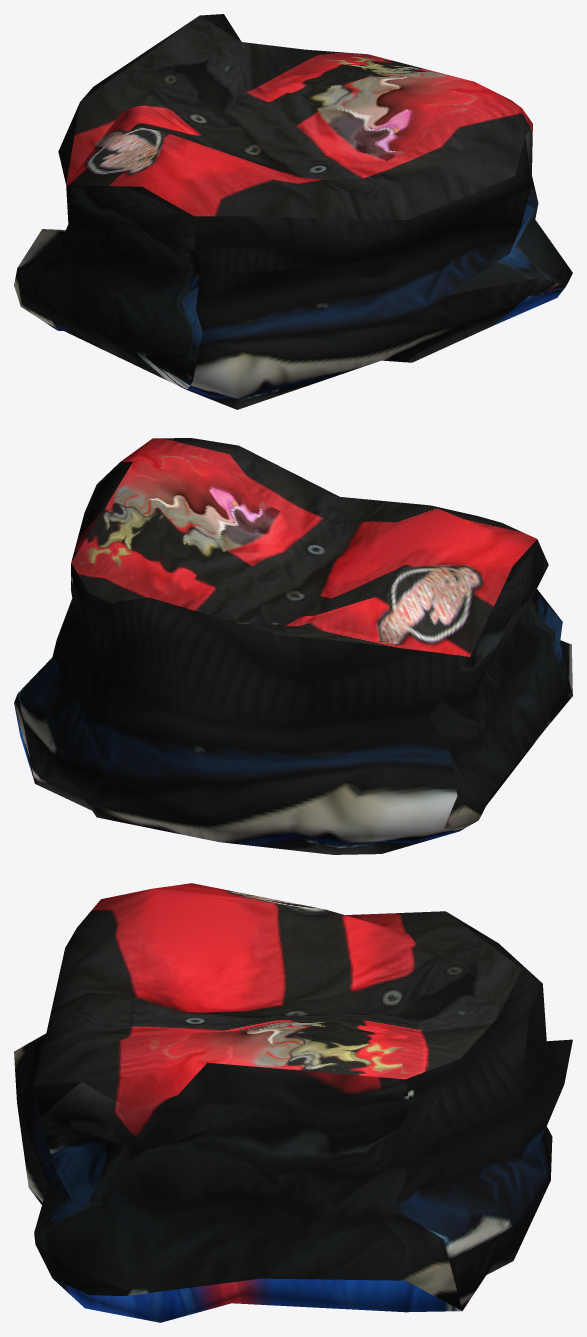
Rendered from shirt_pile-4.FBX.
3 views of the same model, one above another, from view 1: azimuth 30°, elevation 25°; view 2: azimuth 150°, elevation 25°; view 3: azimuth 270°, elevation 25° (orthographic). The views are drawn at different scales.
Parts seen in each view (by area): view 1: Line01; view 2: Line01; view 3: Line01.
Boxes of the visible parts, x1,y1,x2,y2 form: Line01: (14,14,572,409); Line01: (14,438,572,854); Line01: (14,883,572,1322).
Size of the model in its own units: 24.68 by 12.23 by 22.29.
